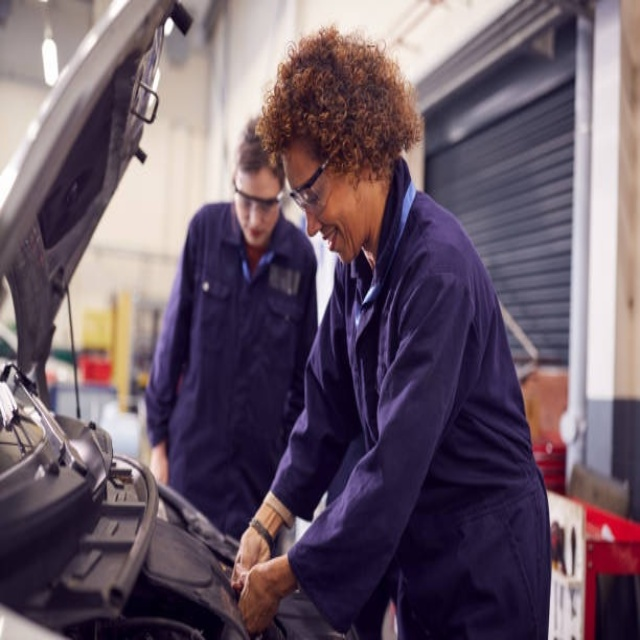Gafas: (282, 153, 332, 210), (234, 178, 281, 213)
Sin_guantes: (234, 552, 293, 638), (236, 491, 285, 571)
Sin_mascara: (317, 223, 351, 259), (242, 220, 266, 243)
